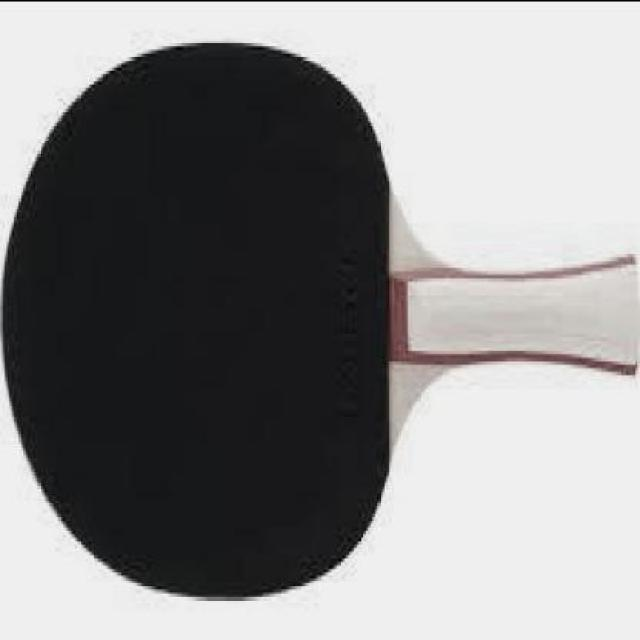table_tennis_racket: (0, 31, 437, 606)
